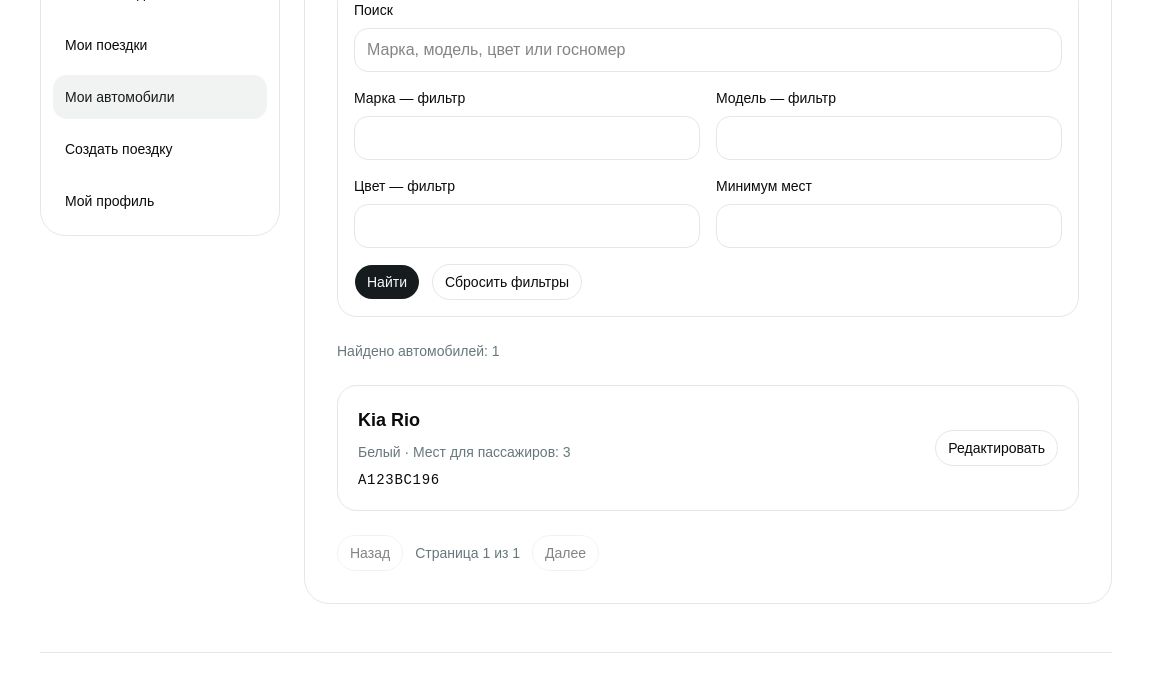
Test case: Экран автомобилей › редактирует выбранный автомобиль и сохраняет его UUID в маршруте API
(page scrolled)
Click the button with aria-label "Редактировать Kia".
click(997, 448)  # box left=935, top=430, right=1058, bottom=466
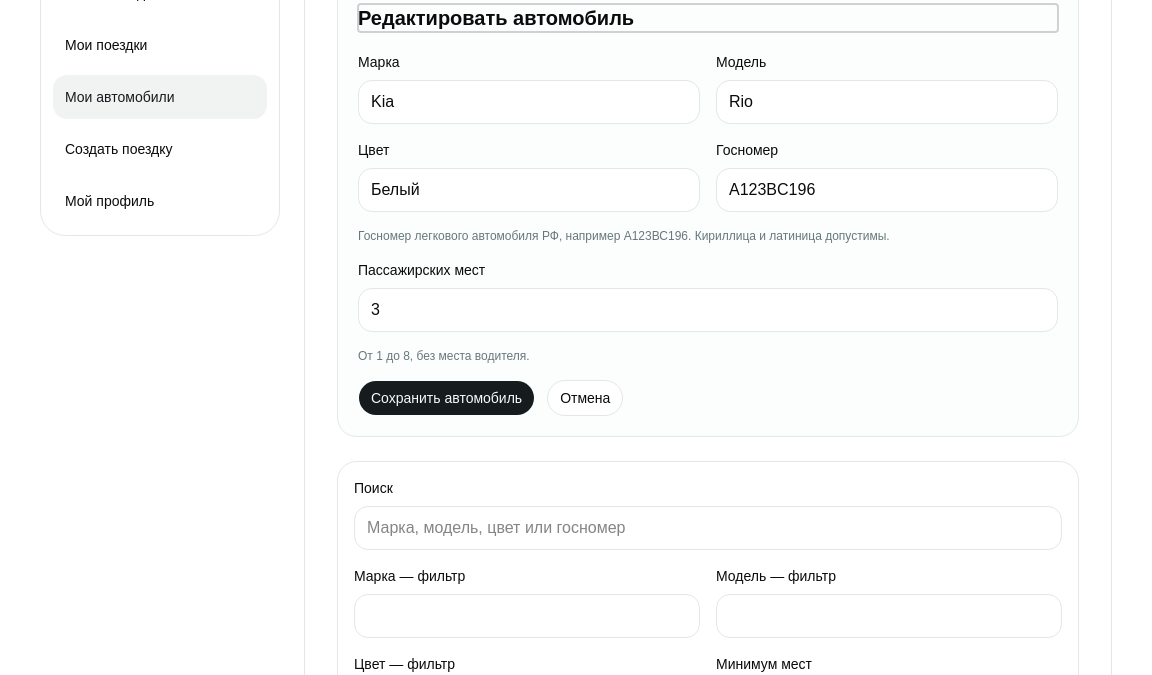
Check: the field labelled "Марка" holds "Kia", box left=358, top=80, right=700, bottom=124
Type "Синий" into the field labelled "Цвет".
click(529, 190); type("Синий")  # box left=358, top=168, right=700, bottom=212
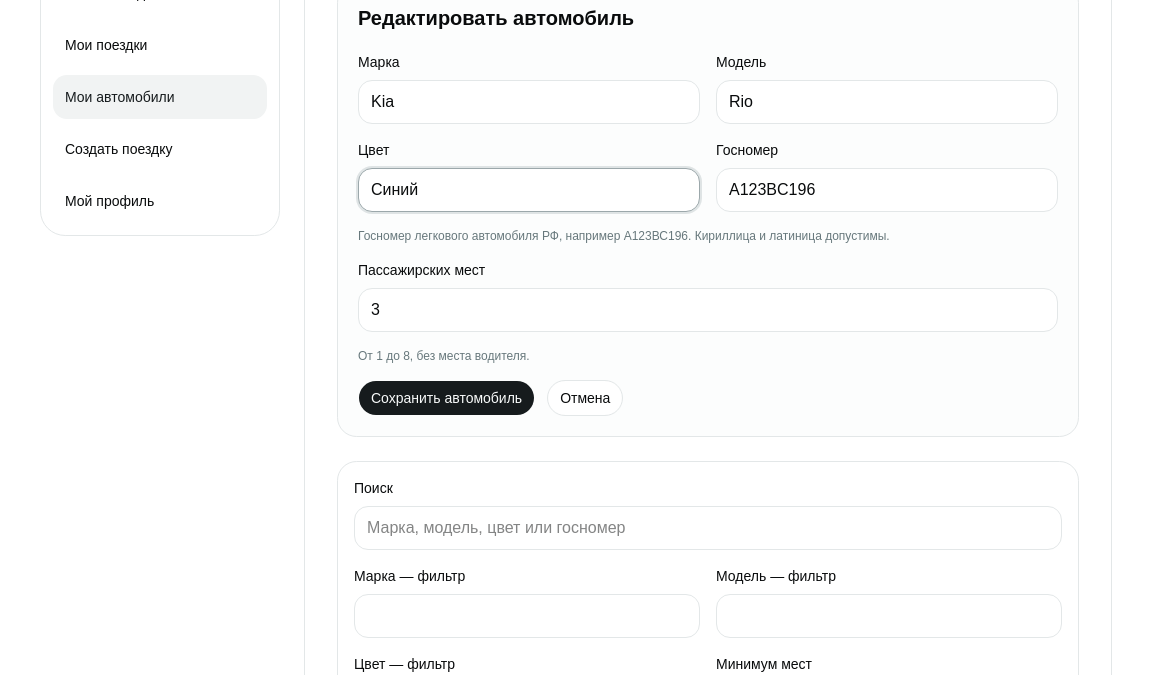
Click the button "Сохранить автомобиль".
click(447, 398)  # box left=358, top=380, right=535, bottom=416
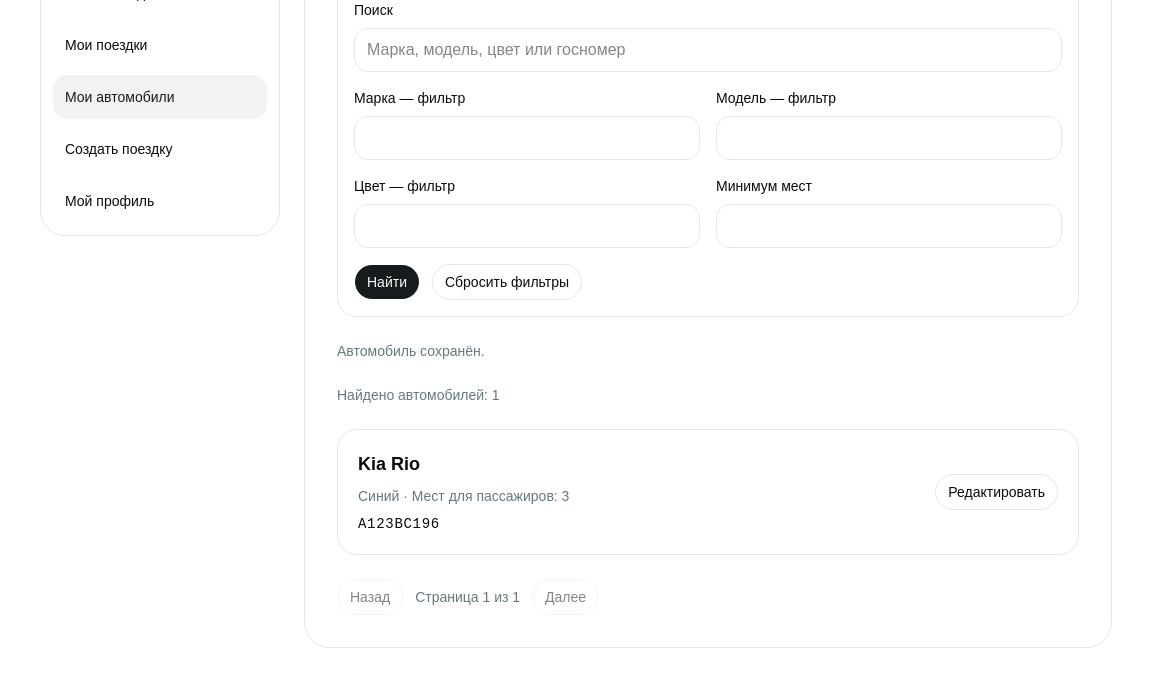
Check: the text "Синий · Мест для пассажиров: 3" is shown, box left=358, top=486, right=569, bottom=506
